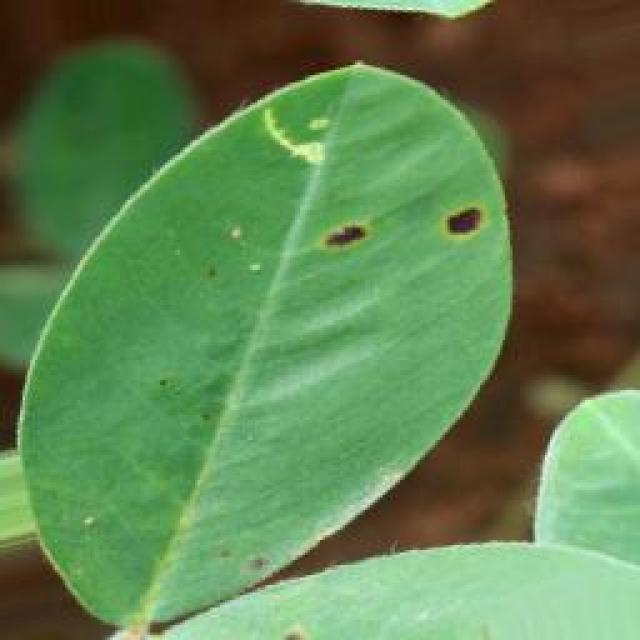Sigatoka: (301, 191, 390, 286), (182, 526, 283, 587), (426, 186, 498, 269), (240, 611, 340, 640)
